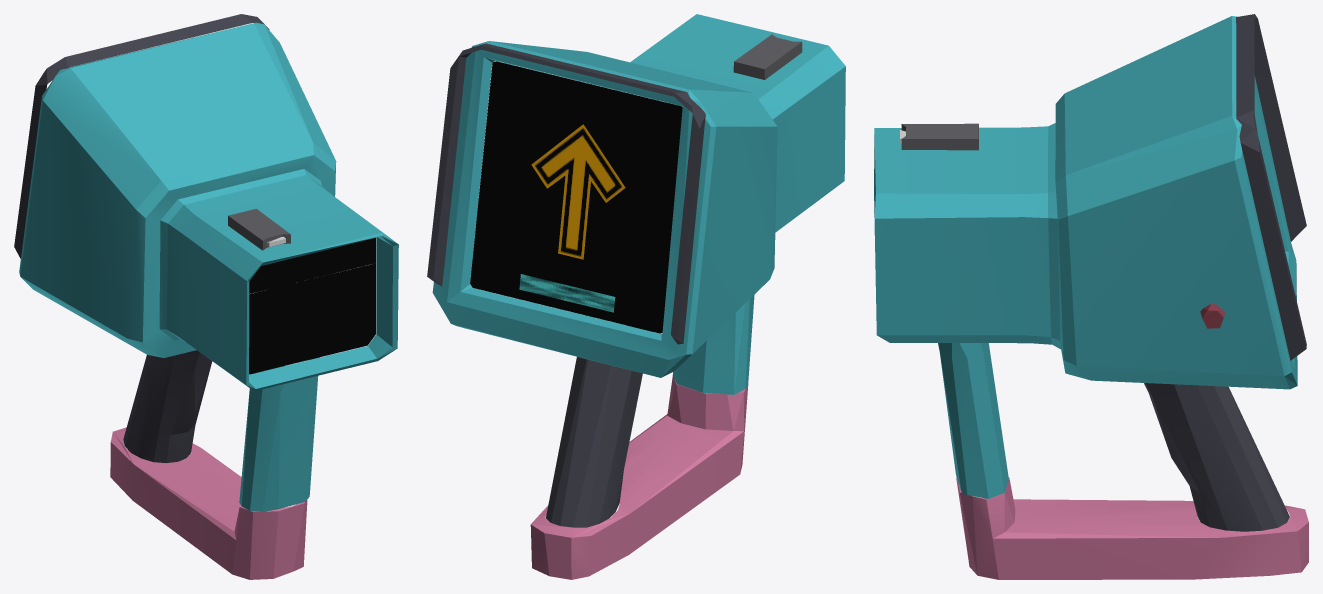
The model's file is item_sticker_dispenser.glb.
3 renders of one model, left to right at view 1: azimuth 30°, elevation 25°; view 2: azimuth 150°, elevation 25°; view 3: azimuth 270°, elevation 25°, orthographic. The views are drawn at different scales.
Visible parts, largest first — view 1: StickerDispenser; view 2: StickerDispenser, Sticker_Arrow, Quad; view 3: StickerDispenser.
Boxes of the visible parts, x1,y1,x2,y2 form: StickerDispenser: [14, 14, 398, 579]; StickerDispenser: [427, 14, 845, 579]; Sticker_Arrow: [531, 124, 625, 259]; Quad: [519, 274, 615, 312]; StickerDispenser: [874, 14, 1308, 579].
Size of what is drawn, in the model's own units: 0.1391 by 0.2467 by 0.1948.
Materials: 3 (2 with a texture image).
